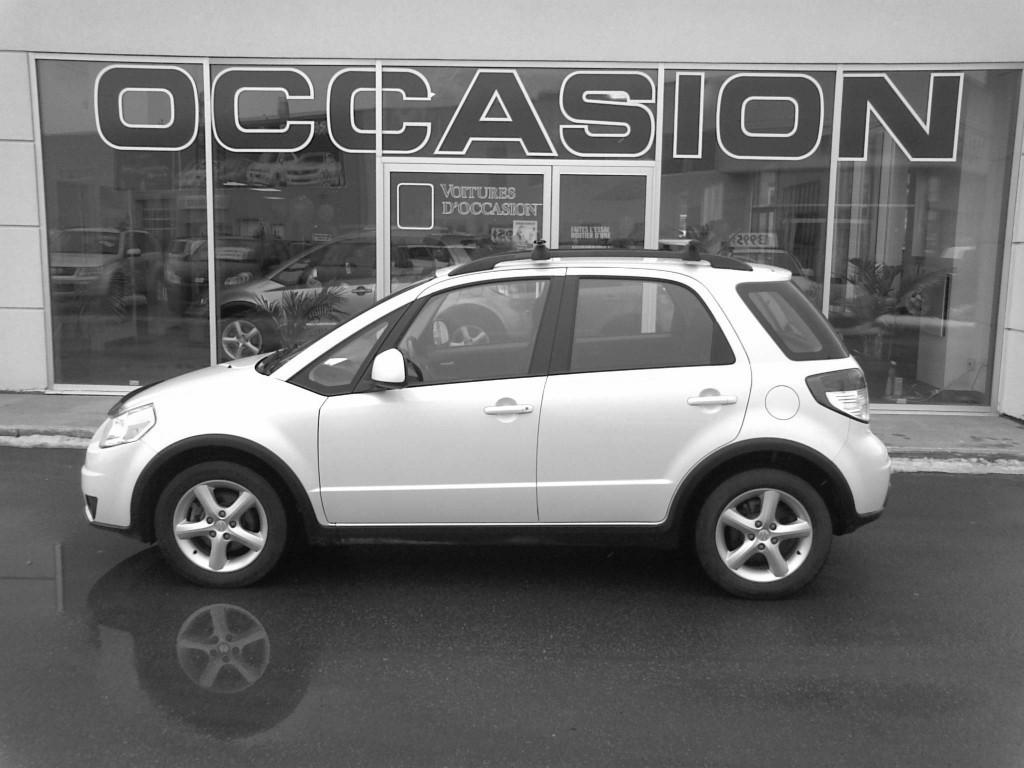car: (78, 245, 896, 604)
